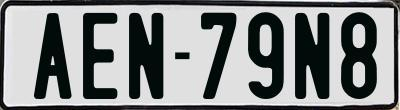7: (199, 12, 240, 99)
8: (341, 9, 377, 96)
9: (248, 10, 286, 100)
A: (31, 13, 75, 102)
E: (82, 11, 117, 99)
N: (129, 10, 169, 102), (292, 12, 330, 101)
